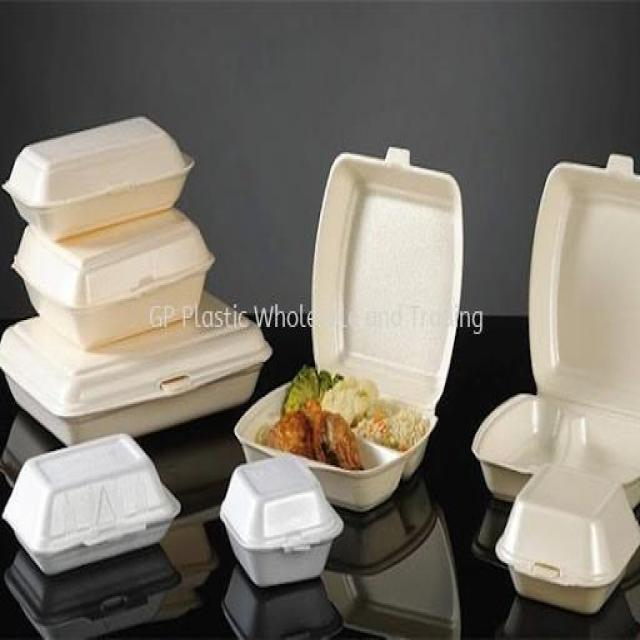styrofoam: (0, 110, 272, 447), (237, 144, 463, 513), (473, 153, 640, 507), (1, 430, 182, 578), (495, 461, 640, 612), (222, 455, 345, 588)
